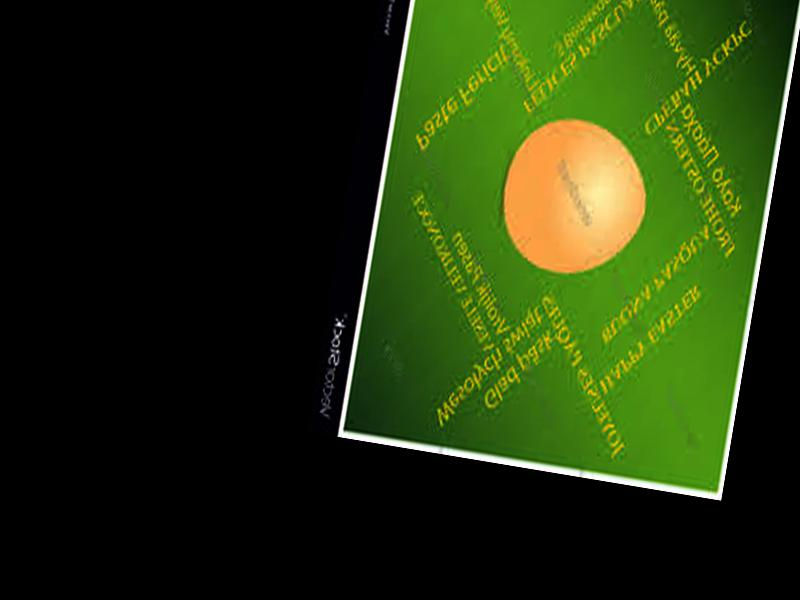Eggs: (494, 109, 654, 282)
